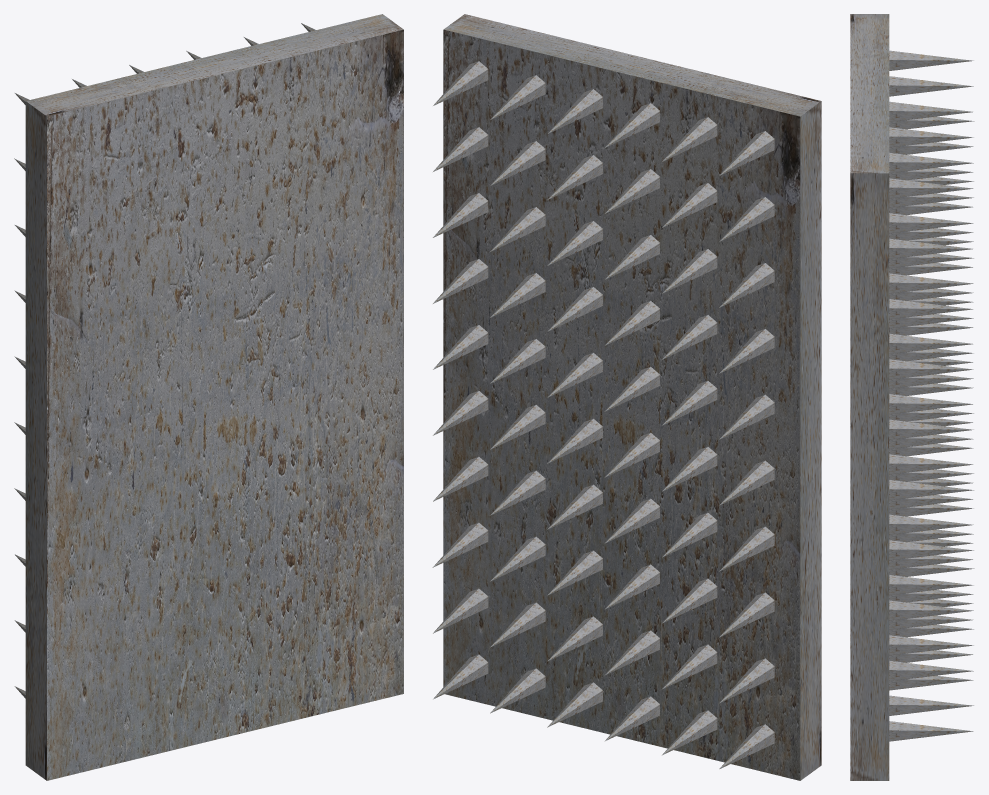
Rendered from spikes.FBX.
3 views of the same model, side by side, from view 1: azimuth 30°, elevation 25°; view 2: azimuth 150°, elevation 25°; view 3: azimuth 270°, elevation 25° (orthographic). The views are drawn at different scales.
Visible parts, largest first — view 1: editable; view 2: editable; view 3: editable.
Boxes of the visible parts, x1=… form: editable: x1=14, y1=14, x2=403, y2=780; editable: x1=432, y1=14, x2=821, y2=780; editable: x1=850, y1=14, x2=974, y2=780.
Bounding box in the file's own units: 548 × 975 × 181.
1 material, 1 textured.
